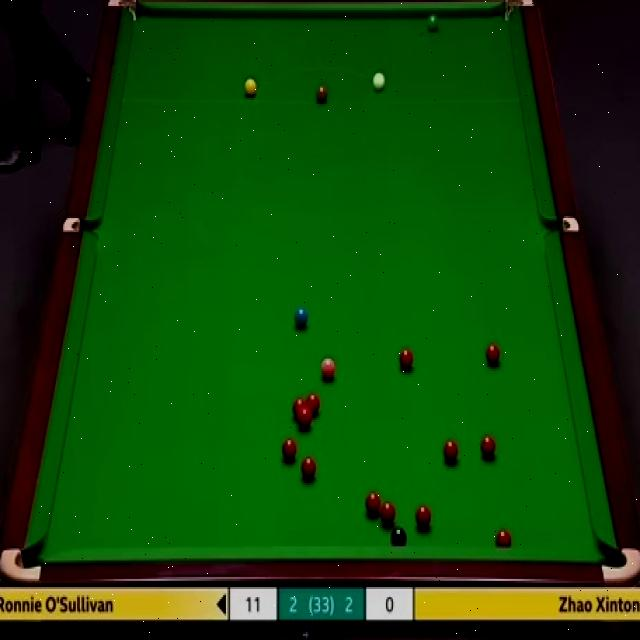black-ball: (391, 525, 407, 547)
blue-ball: (293, 306, 310, 328)
brown-ball: (316, 81, 328, 102)
green-ball: (426, 14, 440, 33)
pink-ball: (320, 357, 337, 383)
red-ball: (414, 505, 432, 533), (442, 439, 461, 465), (278, 439, 298, 462), (381, 498, 396, 528), (398, 345, 414, 372), (364, 492, 381, 517), (481, 434, 498, 459), (484, 342, 500, 368), (296, 463, 314, 484), (292, 397, 306, 423), (306, 393, 320, 417), (494, 528, 512, 546), (298, 410, 313, 430)
white-ball: (372, 70, 388, 92)
yellow-ball: (243, 80, 256, 96)
